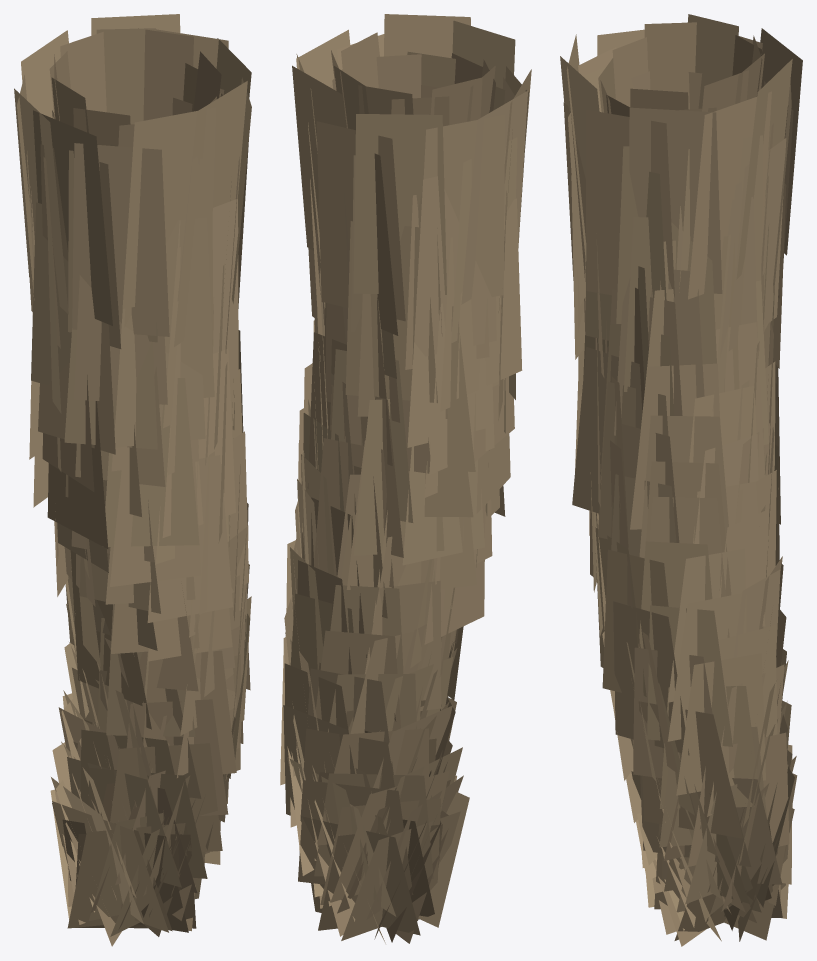
Rendered from FX_Dust_Devil.fbx.
The picture shows the model from 3 angles, left to right: view 1: azimuth 30°, elevation 25°; view 2: azimuth 150°, elevation 25°; view 3: azimuth 270°, elevation 25°; orthographic projection. The views are drawn at different scales.
Parts seen in each view (by area): view 1: FX_Dust_Devil_Spiral; view 2: FX_Dust_Devil_Spiral; view 3: FX_Dust_Devil_Spiral.
Boxes of the visible parts, left/top/right/bottom form: FX_Dust_Devil_Spiral: left=14, top=14, right=251, bottom=946; FX_Dust_Devil_Spiral: left=280, top=14, right=531, bottom=943; FX_Dust_Devil_Spiral: left=560, top=14, right=802, bottom=946.
Bounding box in the file's own units: 111 × 421 × 107.
